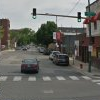crosswalk: (0, 75, 90, 81)
